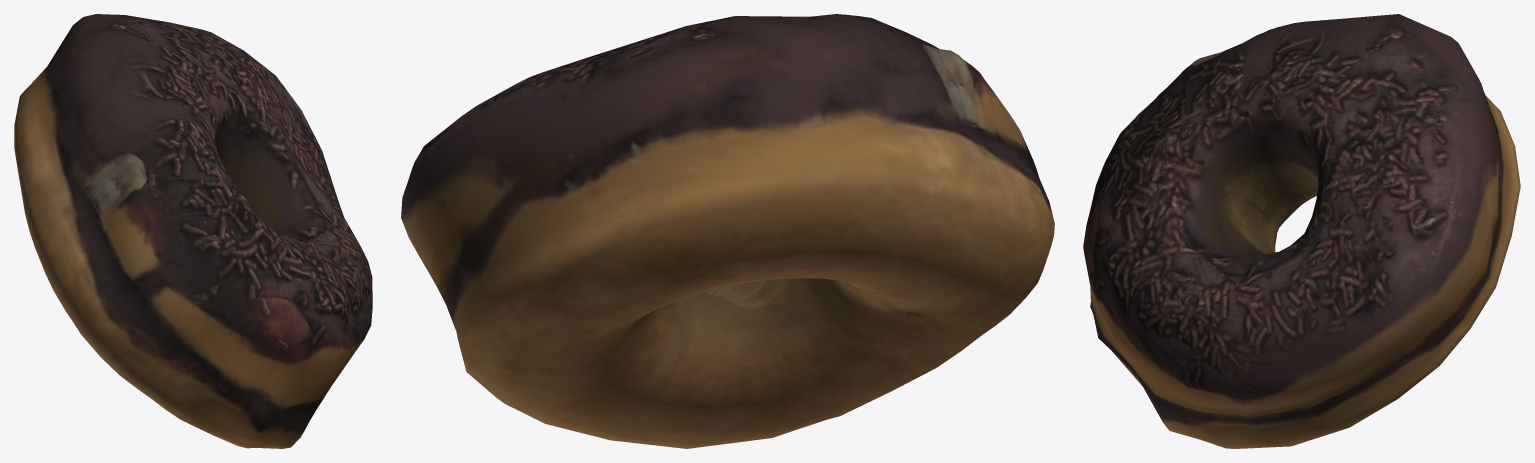
File: Donut.glb
3 views of the same model, side by side, from view 1: azimuth 30°, elevation 25°; view 2: azimuth 150°, elevation 25°; view 3: azimuth 270°, elevation 25° (orthographic). The views are drawn at different scales.
Parts seen in each view (by area): view 1: Object_2; view 2: Object_2; view 3: Object_2.
Part boxes in pixels (box(x1,y1,x2,y2)): Object_2: box(14, 14, 372, 448); Object_2: box(401, 14, 1054, 448); Object_2: box(1083, 14, 1520, 448).
Size of the model in its own units: 1.04 by 1.05 by 1.11.
1 material, 1 textured.
